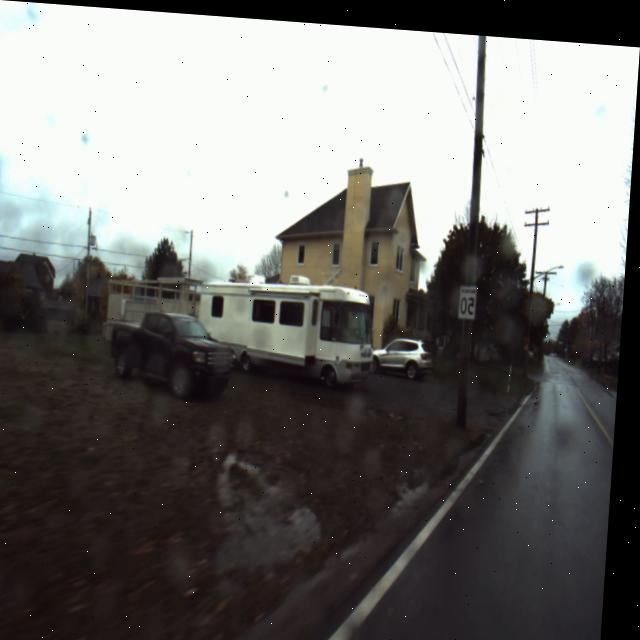car: (377, 317, 441, 378)
